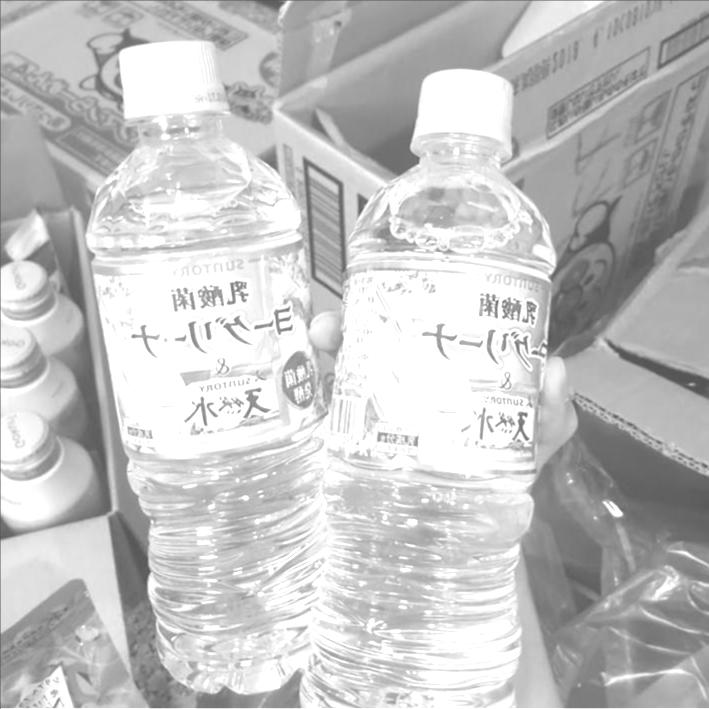bottle: (78, 27, 352, 695), (293, 63, 557, 709)
